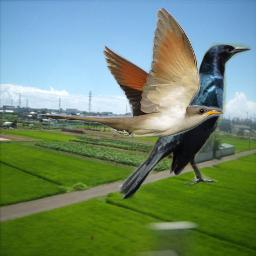Crow: (116, 42, 252, 201)
Cuckoo: (37, 8, 223, 137)
